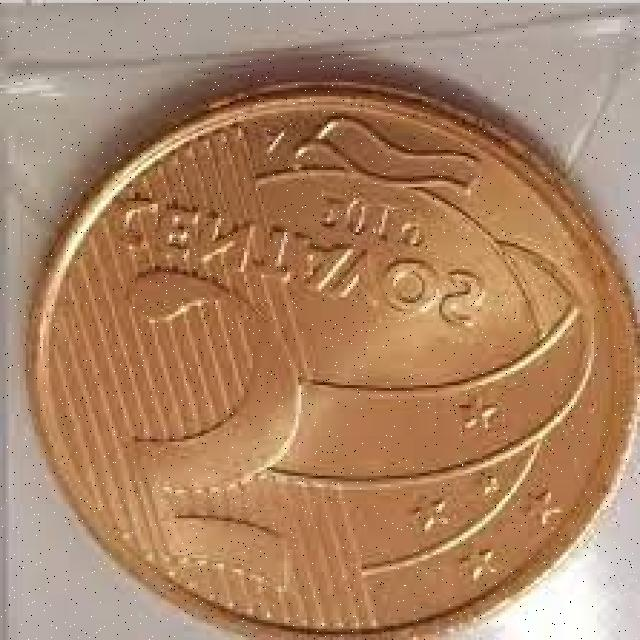5 cent: (41, 97, 634, 640)
